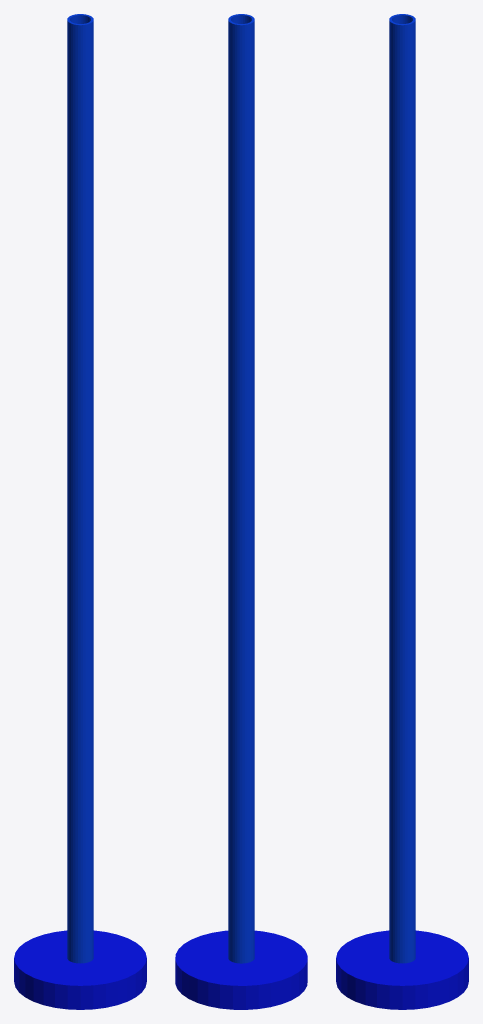
File: blue_flare.dae
3 views of the same model, side by side, from view 1: azimuth 90°, elevation 25°; view 2: azimuth 150°, elevation 25°; view 3: azimuth 270°, elevation 25° (orthographic).
Visible parts, largest first — view 1: Cylinder, Cylinder.001; view 2: Cylinder, Cylinder.001; view 3: Cylinder, Cylinder.001.
Boxes of the visible parts, x1,y1,x2,y2 form: Cylinder: (67,14,93,963); Cylinder.001: (14,930,146,1009); Cylinder: (228,14,254,963); Cylinder.001: (175,930,307,1009); Cylinder: (389,14,415,963); Cylinder.001: (336,930,468,1009).
Bounding box in the file's own units: 0.1 × 0.1 × 0.8.
